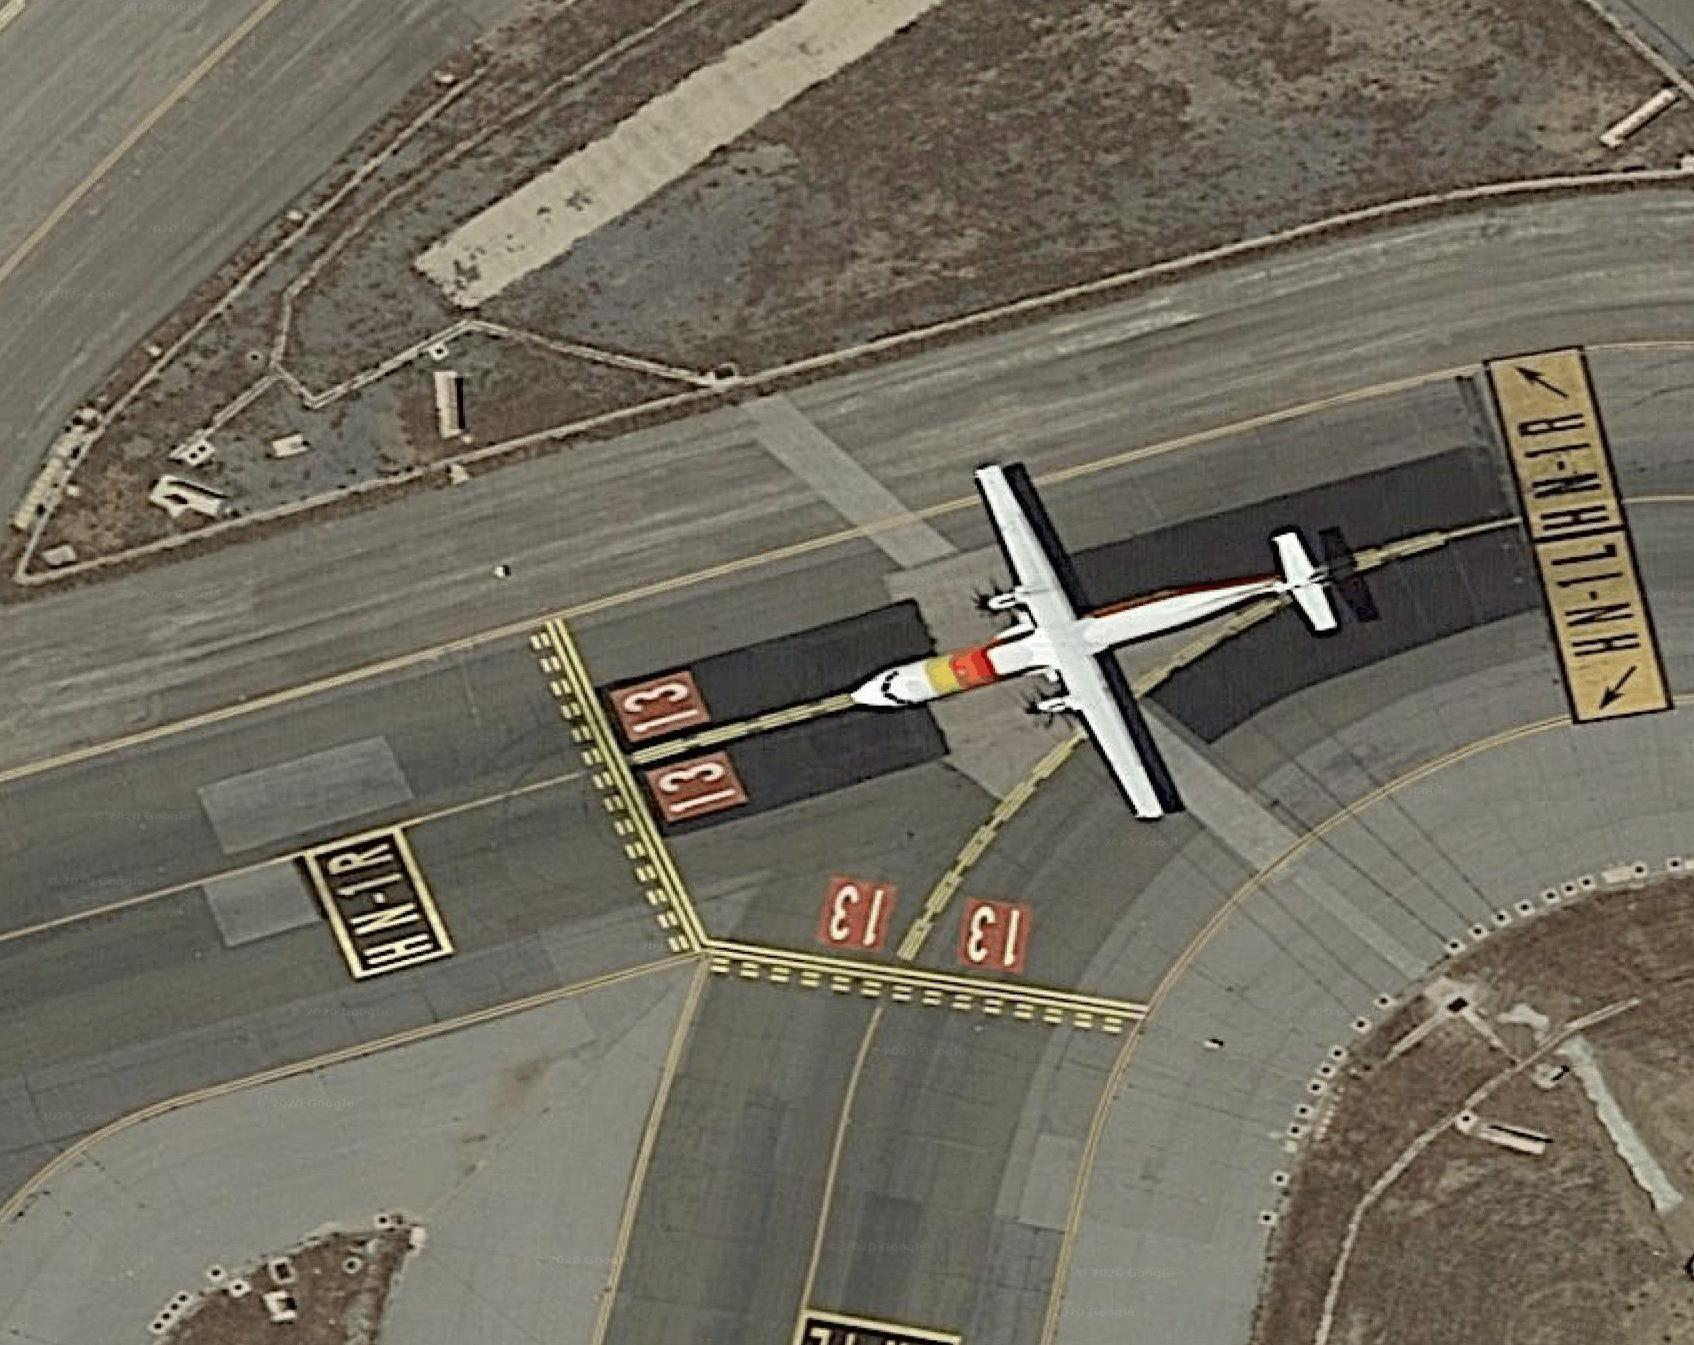plane: (802, 399, 1385, 877)
